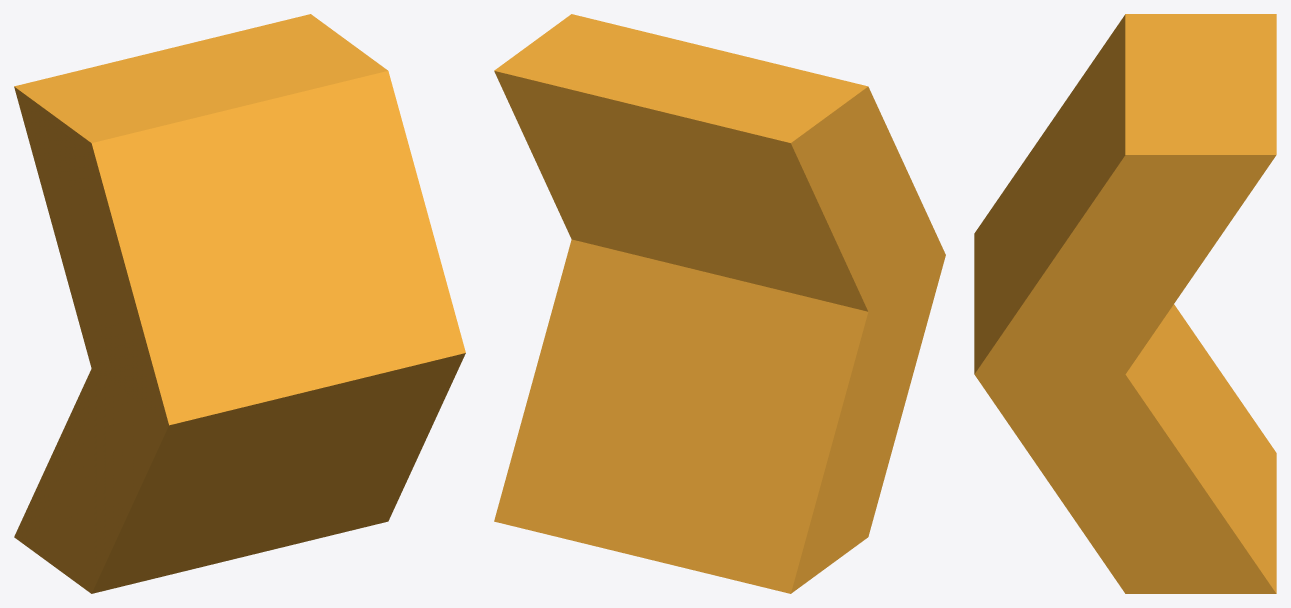
Rendered from OBS2.fbx.
The picture shows the model from 3 angles, left to right: view 1: azimuth 30°, elevation 25°; view 2: azimuth 150°, elevation 25°; view 3: azimuth 270°, elevation 25°; orthographic projection. The views are drawn at different scales.
Parts seen in each view (by area): view 1: Group2; view 2: Group2; view 3: Group2.
Boxes of the visible parts, box(x1,y1,x2,y2) form: Group2: box(14, 14, 465, 593); Group2: box(494, 14, 945, 593); Group2: box(974, 14, 1276, 593).
Size of the model in its own units: 276 by 400 by 250.
